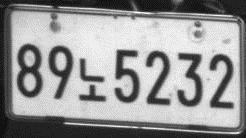2: (208, 52, 235, 110), (144, 49, 171, 106)
3: (176, 52, 203, 108)
5: (113, 48, 140, 103)
8: (16, 43, 42, 98)
9: (47, 43, 73, 100)
노: (78, 57, 106, 103)
